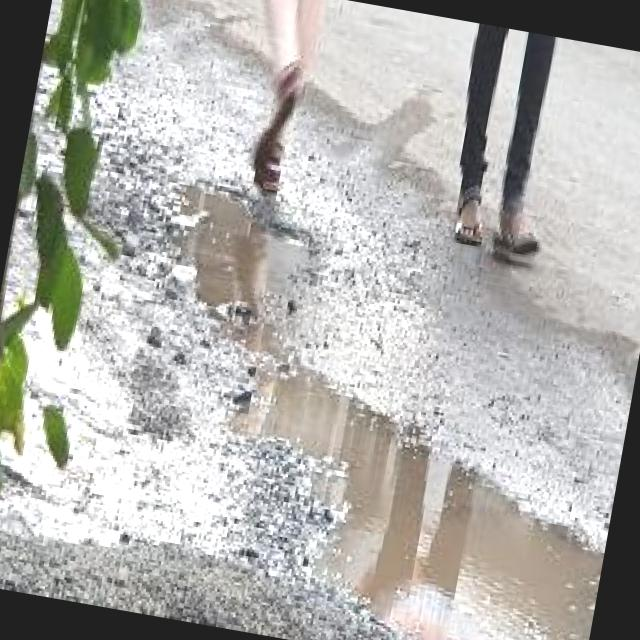waterlogging: (196, 343, 629, 640)
